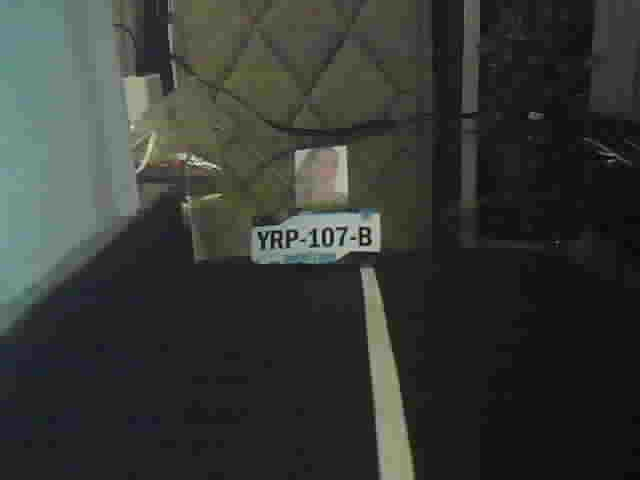PLACA: (246, 207, 383, 268)
ROSTRO: (296, 150, 347, 203)
